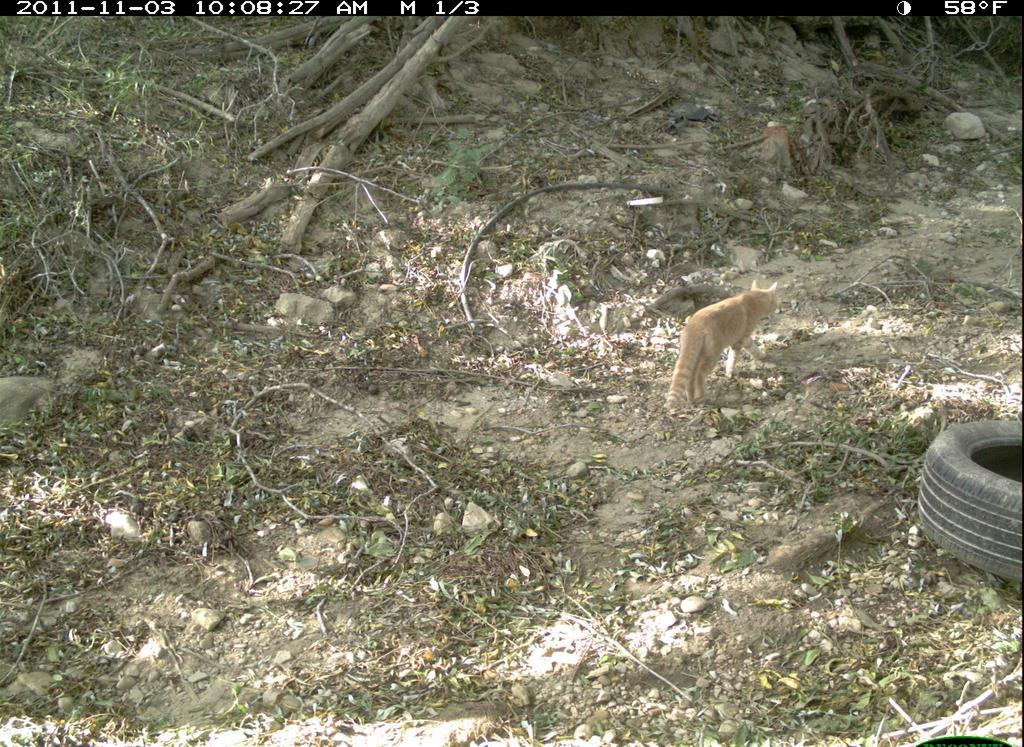cat: (665, 282, 789, 414)
